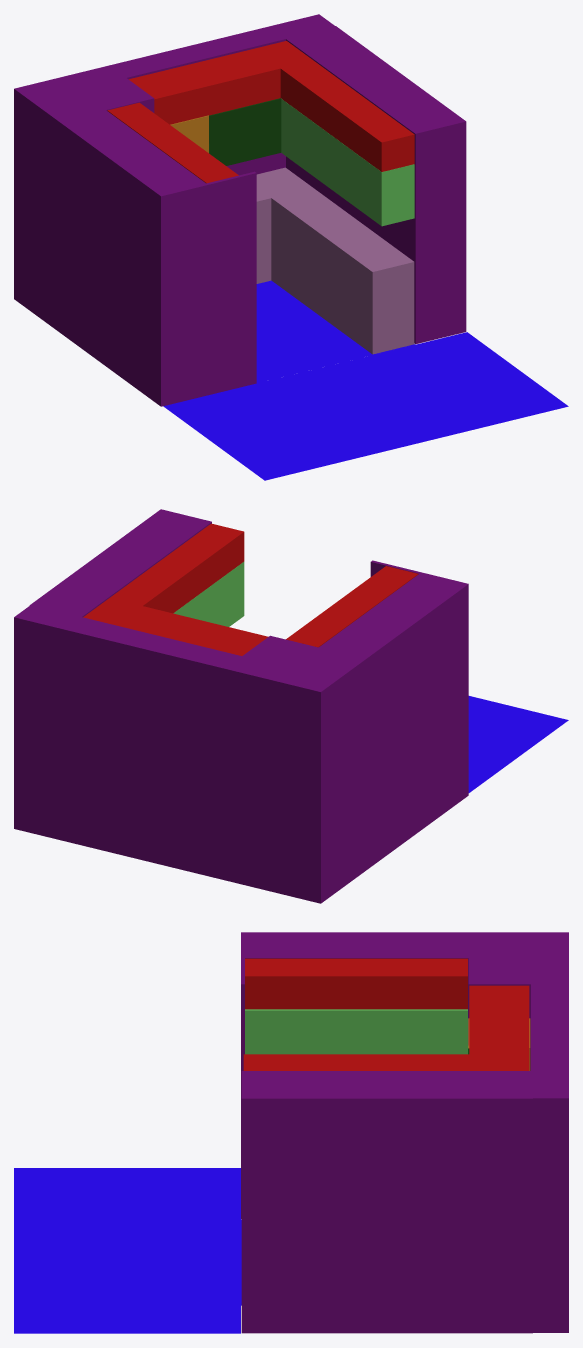
The model's file is cuisine.fbx.
The picture shows the model from 3 angles, top to bottom: view 1: azimuth 30°, elevation 25°; view 2: azimuth 150°, elevation 25°; view 3: azimuth 270°, elevation 25°; orthographic projection. The views are drawn at different scales.
Parts seen in each view (by area): view 1: Box005, Box002, Box003, Box004, Box008, Box013, Box011, Box001, Object001, Box012, Box009; view 2: Box005, Box013, Box004, Box002, Box012, Box011; view 3: Box004, Box002, Box005, Box012, Box007, Box013, Box003.
Boxes of the visible parts, x1,y1,x2,y2 form: Box005: [14, 14, 335, 406]; Box002: [163, 332, 568, 480]; Box003: [161, 171, 256, 406]; Box004: [285, 26, 466, 344]; Box008: [256, 167, 414, 354]; Box013: [129, 41, 414, 171]; Box011: [281, 98, 414, 226]; Box001: [256, 280, 414, 383]; Object001: [209, 98, 281, 165]; Box012: [107, 102, 238, 183]; Box009: [170, 115, 208, 152]; Box005: [14, 573, 468, 903]; Box013: [83, 523, 268, 655]; Box004: [29, 509, 211, 617]; Box002: [468, 696, 568, 792]; Box012: [286, 566, 418, 647]; Box011: [173, 562, 244, 626]; Box004: [241, 1071, 532, 1333]; Box002: [14, 1168, 240, 1333]; Box005: [241, 932, 568, 1332]; Box012: [245, 958, 467, 1009]; Box007: [245, 1009, 467, 1054]; Box013: [243, 985, 529, 1070]; Box003: [241, 932, 244, 1218].
Bounding box in the file's own units: 150 × 99.25 × 211.
